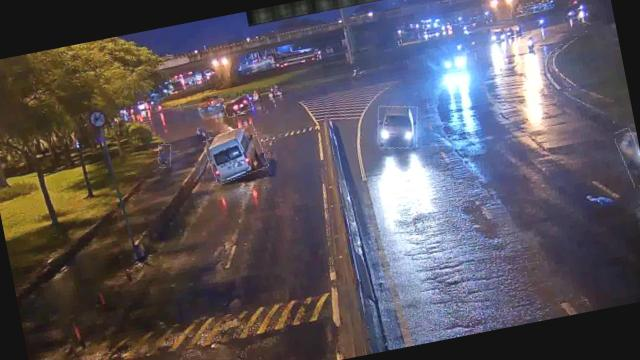Bike: (616, 126, 640, 188), (156, 142, 173, 168)
Bus: (203, 124, 268, 184)
Car: (372, 100, 422, 152), (224, 94, 254, 118)
